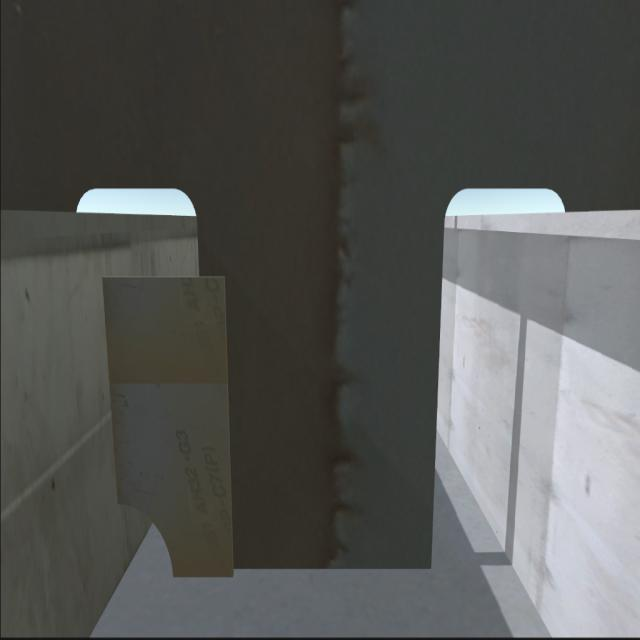fillet_hole: (120, 504, 178, 580)
fillet_yong_jeop_jang: (166, 557, 442, 586)
longi_yong_jeop_jang: (97, 273, 125, 513)
plate_CP01: (100, 279, 234, 581)
